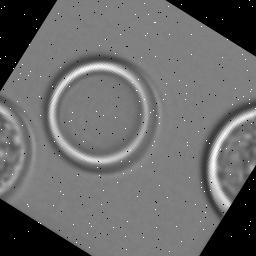picoshell: (43, 58, 163, 177), (202, 105, 256, 221), (0, 97, 37, 204)
